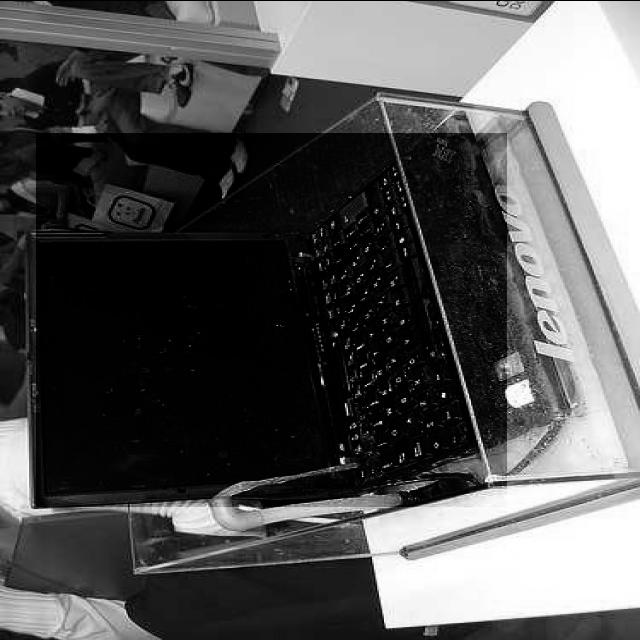-keyboard-: (36, 133, 507, 507)
